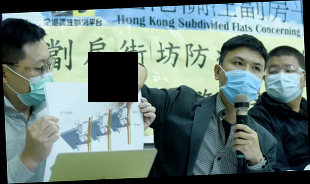with_mask: (7, 54, 56, 109), (219, 54, 267, 108), (263, 60, 306, 105)
